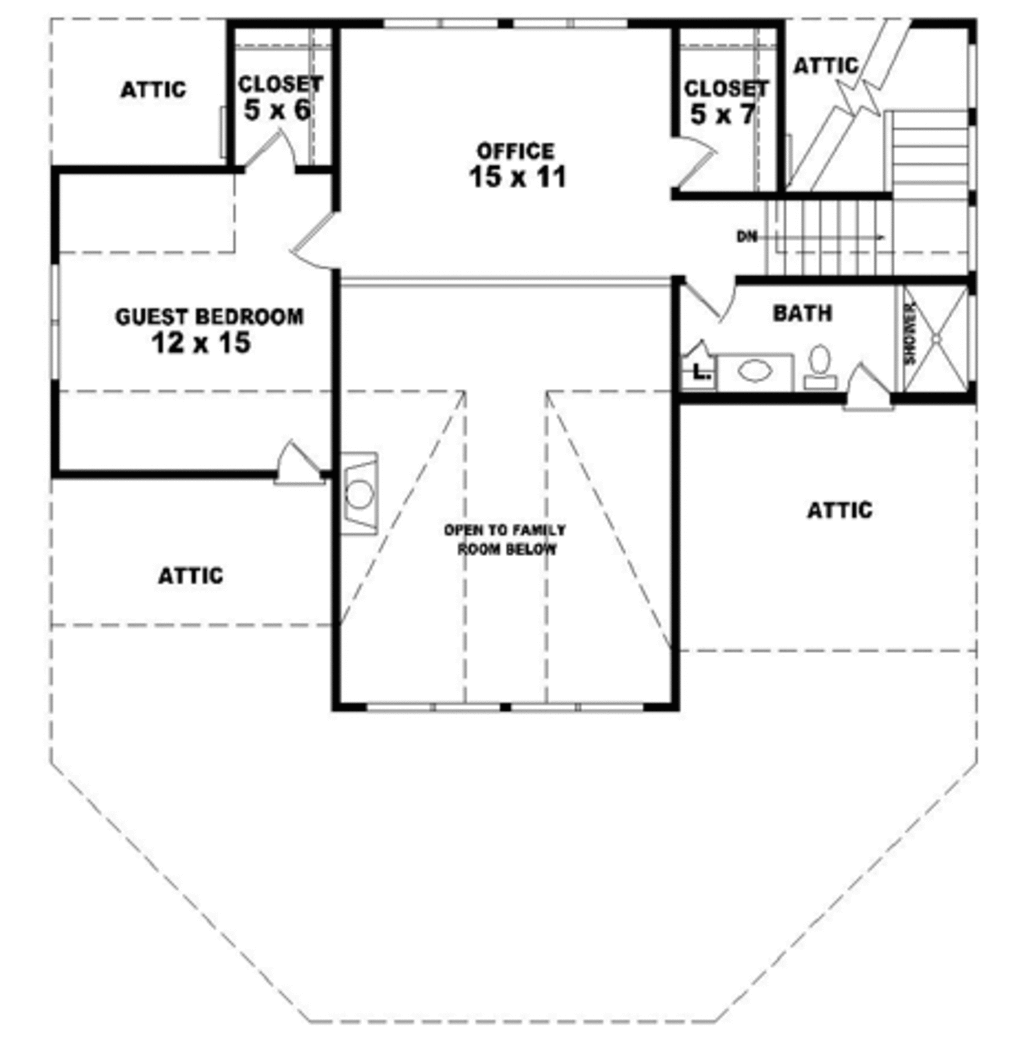door: (668, 122, 719, 196), (240, 116, 303, 169), (295, 208, 345, 272), (848, 359, 901, 417), (679, 272, 743, 317), (274, 432, 324, 485)
large_sink: (801, 340, 848, 398)
small_sink: (719, 354, 795, 393)
stairs: (750, 82, 976, 287)
window: (358, 695, 498, 716), (45, 254, 66, 390), (500, 696, 643, 714), (379, 14, 506, 33), (516, 14, 647, 25)
